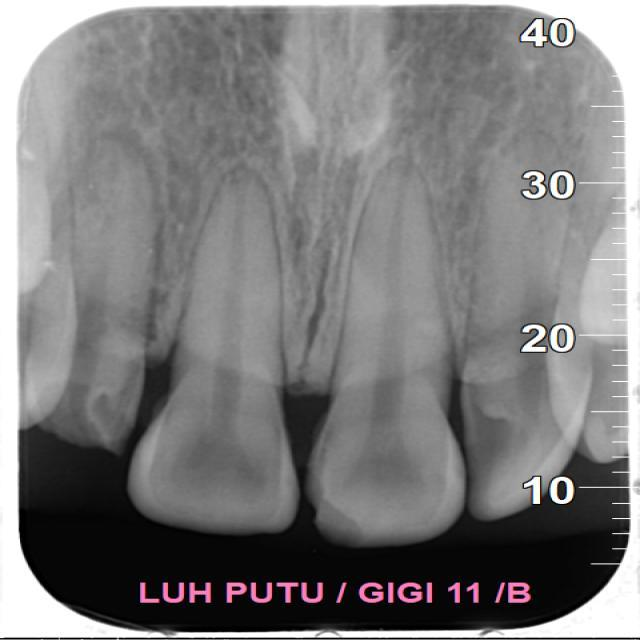individual-tooth-8tto: (124, 158, 297, 531), (311, 166, 463, 548)
